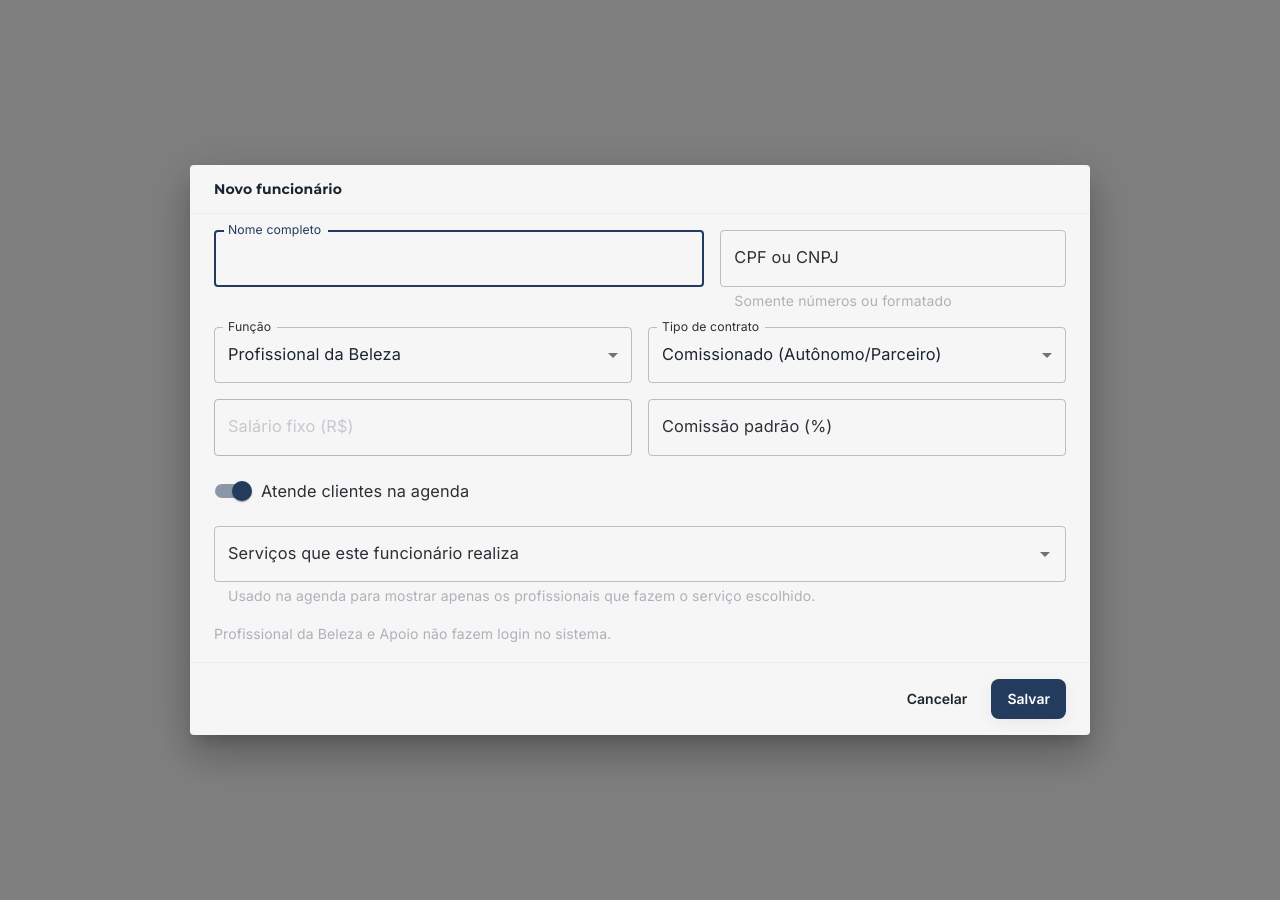
EmployeeFormModal Component › displays backend validation errors when API returns field errors
This screenshot has width=1280, height=900.
Type "Teste Erro" into the field labelled "Nome completo" at (459, 259), box [214, 230, 704, 287]
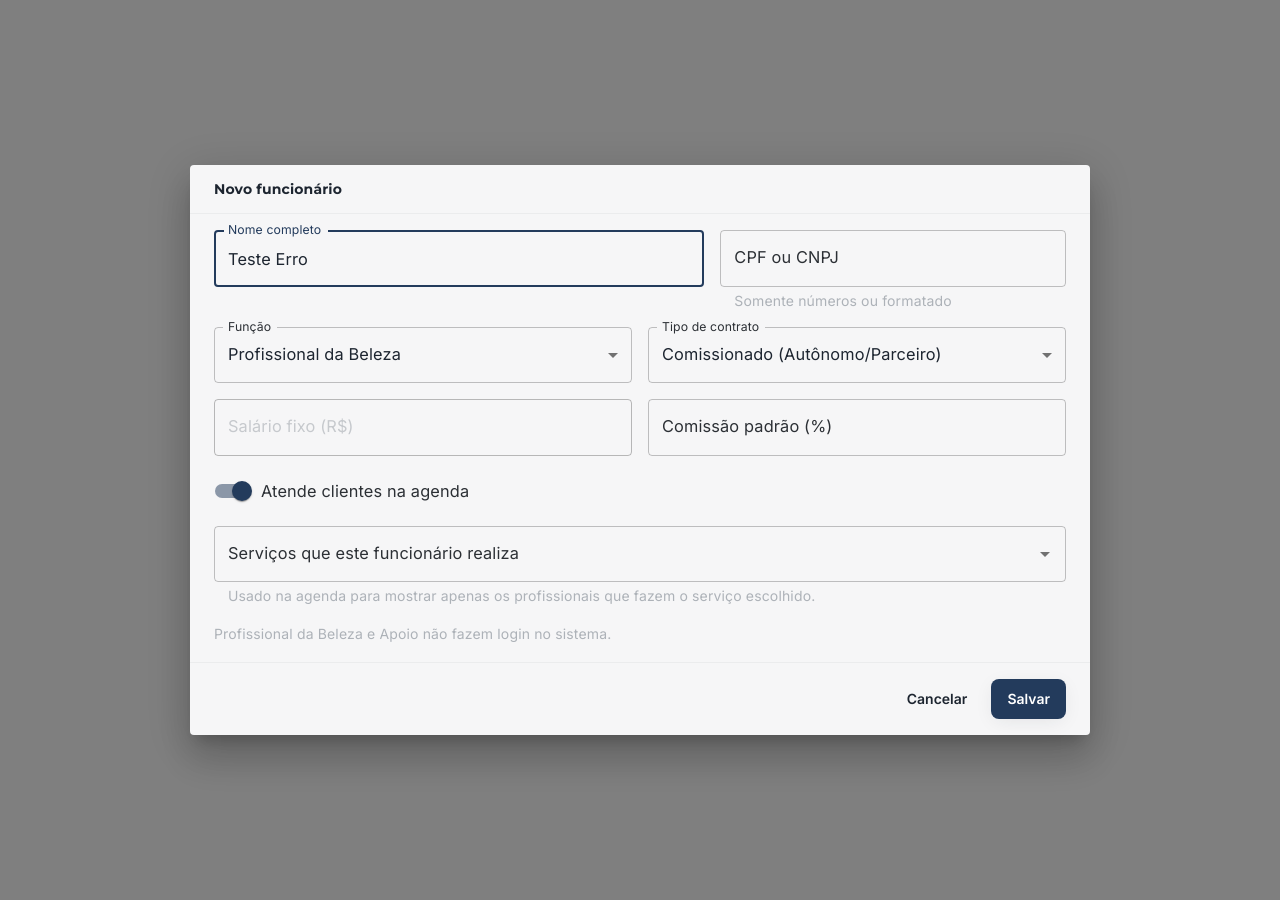
Type "11111111111" into the field labelled "CPF ou CNPJ" at (893, 259), box [720, 230, 1066, 287]
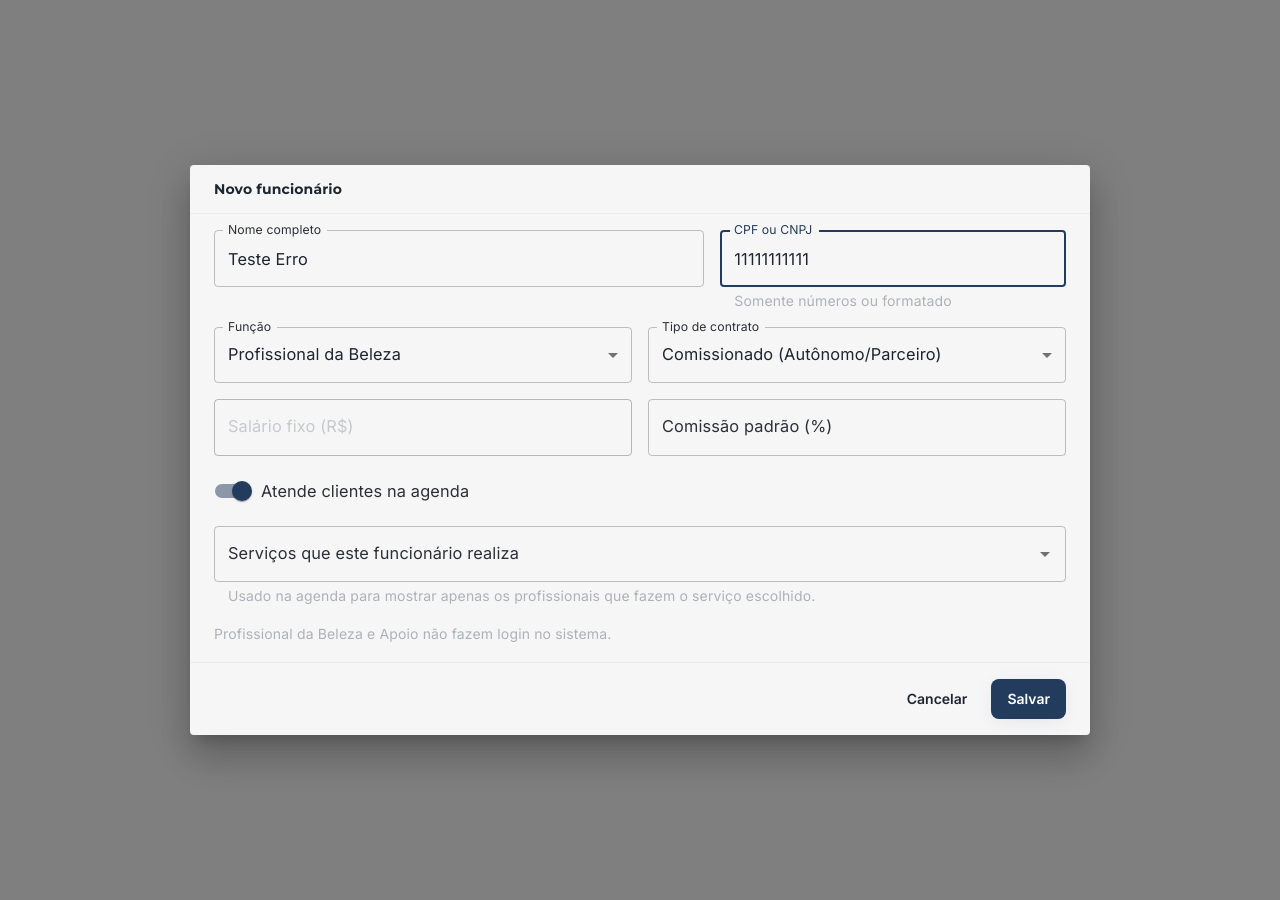
Click the button "Salvar" at (1029, 699), box [991, 679, 1066, 719]
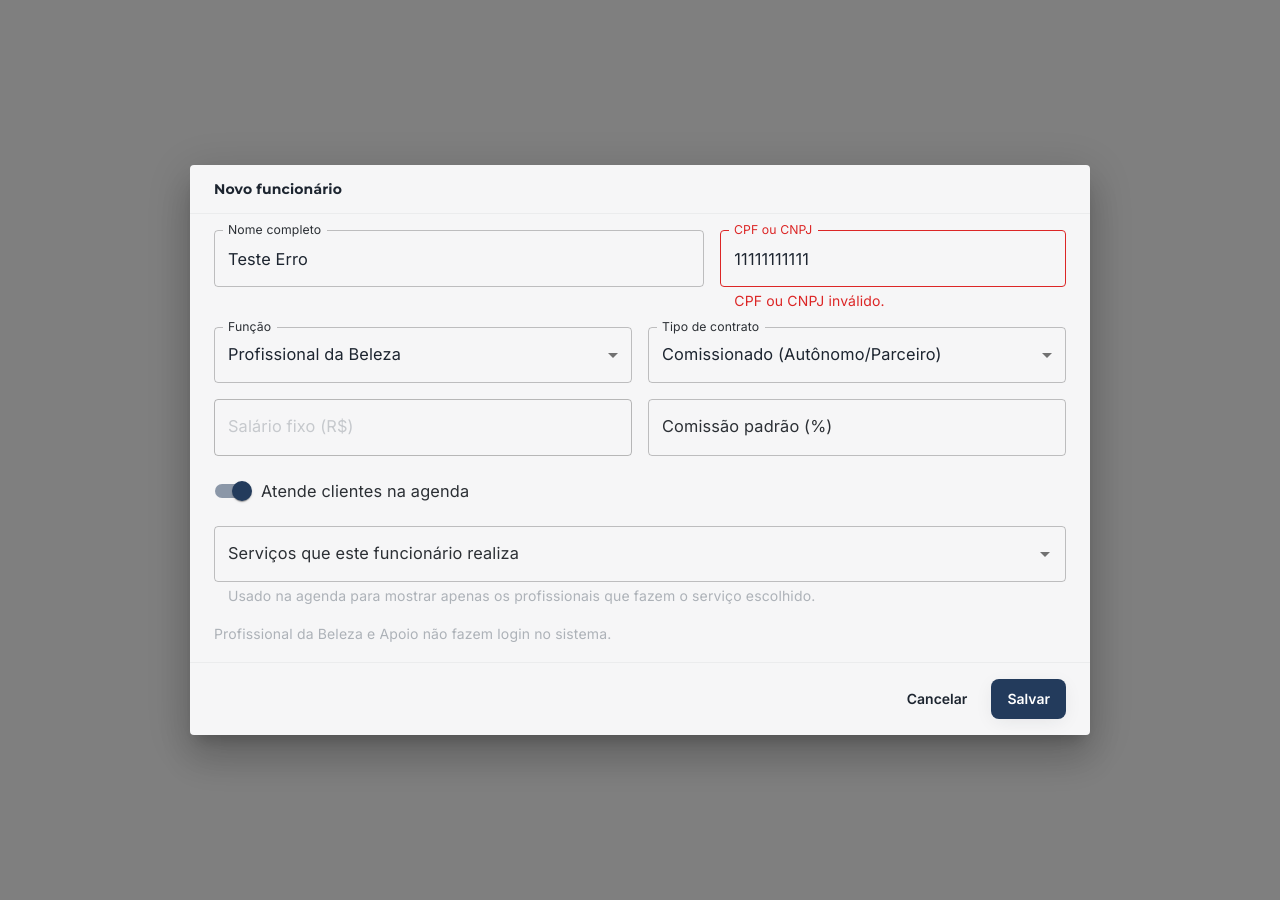
Expected: the text "CPF ou CNPJ inválido." is shown, [734, 292, 885, 309]
